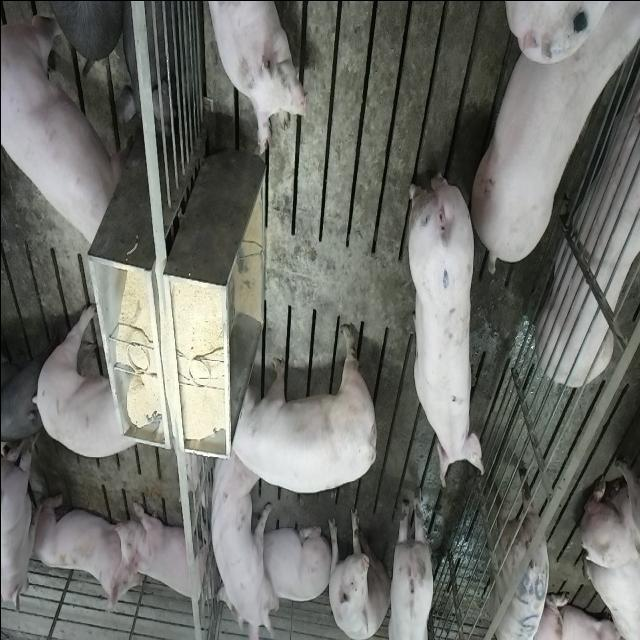Feeding: (230, 316, 380, 498)
Sitting: (204, 456, 276, 640), (326, 506, 390, 640)
Standing: (2, 9, 122, 249), (406, 160, 483, 486), (31, 298, 136, 456), (482, 466, 552, 638), (386, 486, 436, 638), (0, 436, 34, 616), (0, 326, 43, 449)
Sternal_lying: (537, 59, 640, 390), (203, 0, 307, 159), (30, 494, 138, 620), (119, 499, 215, 610), (258, 519, 329, 605)
